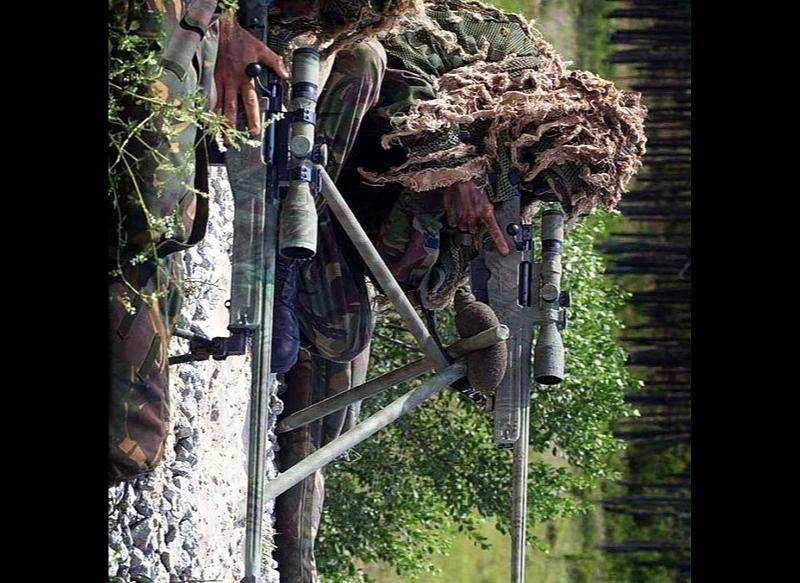gun: (239, 115, 576, 583), (221, 0, 342, 583)
